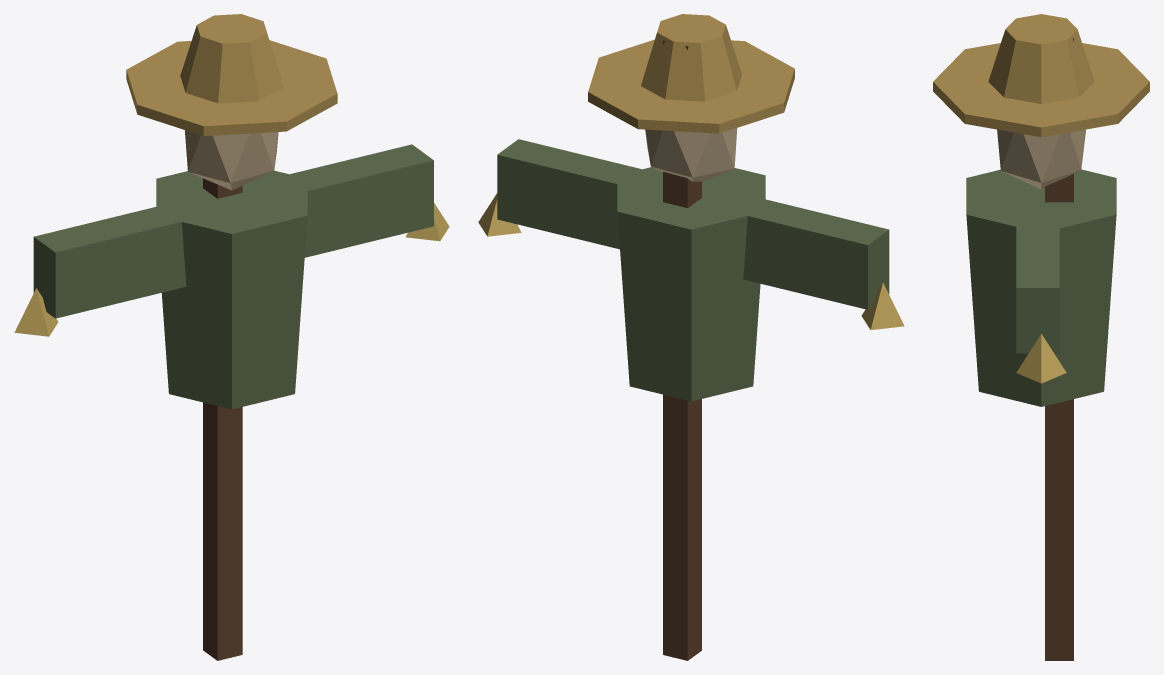
The model's file is scarecrow.glb.
The picture shows the model from 3 angles, left to right: view 1: azimuth 30°, elevation 25°; view 2: azimuth 150°, elevation 25°; view 3: azimuth 270°, elevation 25°; orthographic projection. The views are drawn at different scales.
Visible parts, largest first — view 1: scarecrow; view 2: scarecrow; view 3: scarecrow.
Part boxes in pixels (<box>): scarecrow: <box>14,14,449,660</box>; scarecrow: <box>478,14,904,660</box>; scarecrow: <box>933,14,1149,660</box>.
Bounding box in the file's own units: 1.38 × 1.91 × 0.6.
